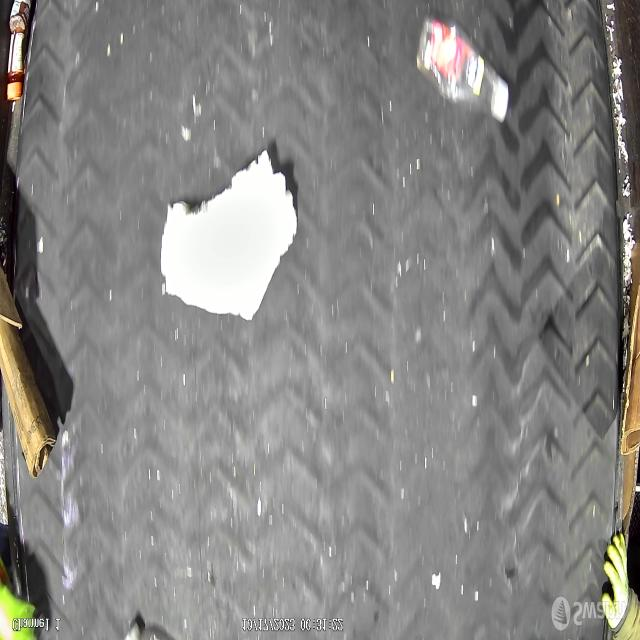plastic_bottle: (416, 17, 510, 127)
